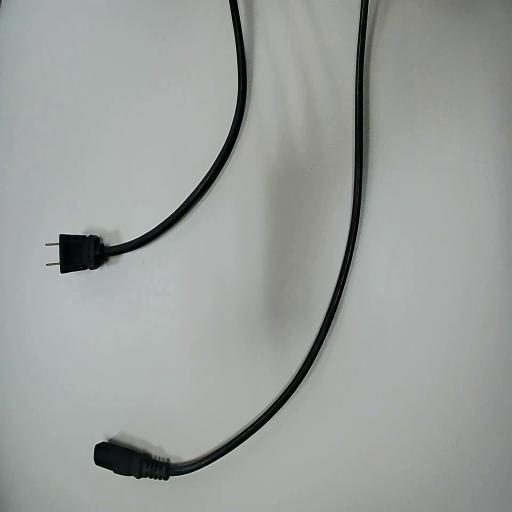wire: (95, 0, 367, 479), (59, 0, 246, 272)
